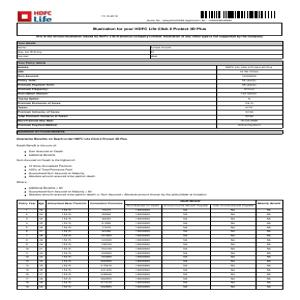image: (16, 7, 55, 21)
table: (16, 199, 283, 291), (16, 42, 284, 133)
text: (16, 179, 211, 197), (16, 158, 97, 179), (16, 143, 66, 157), (15, 137, 130, 142)
